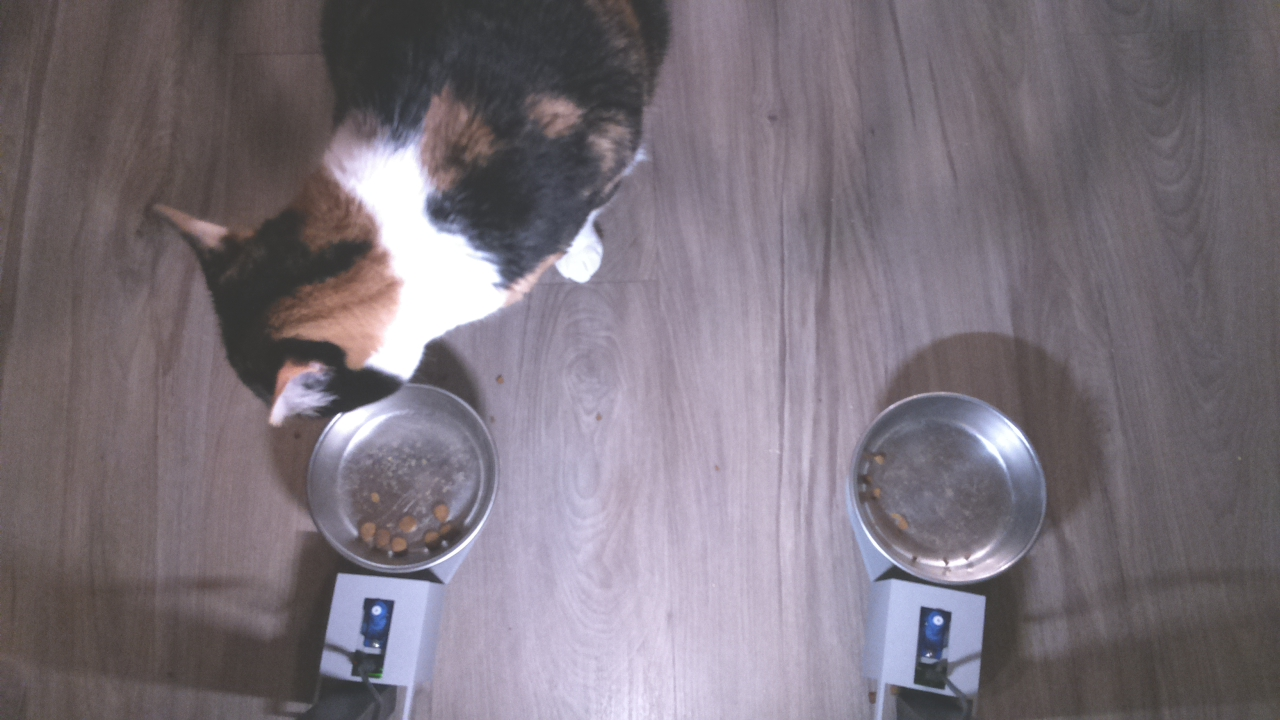bella: (144, 183, 500, 420)
open_bowl: (848, 384, 1056, 586), (307, 379, 501, 579)
